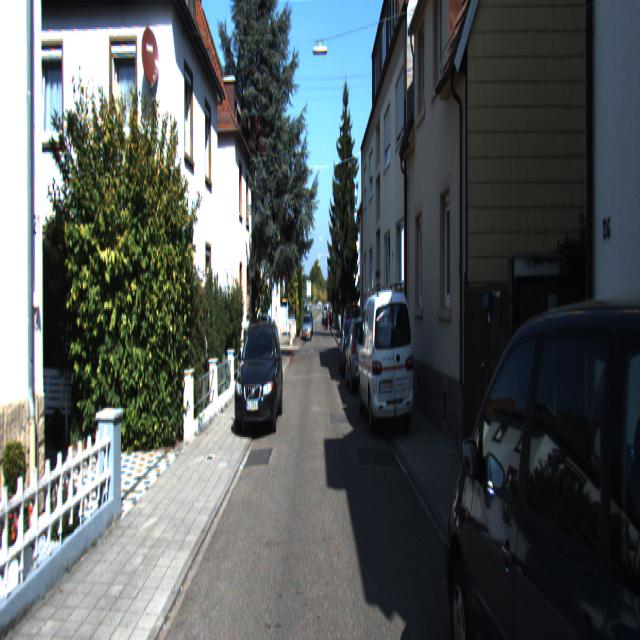Car: (438, 253, 640, 638), (357, 283, 414, 441), (234, 312, 283, 434), (345, 312, 377, 398)
